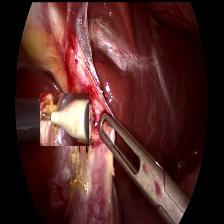Grasper: (96, 107, 186, 224)
Hook: (39, 92, 88, 145)
